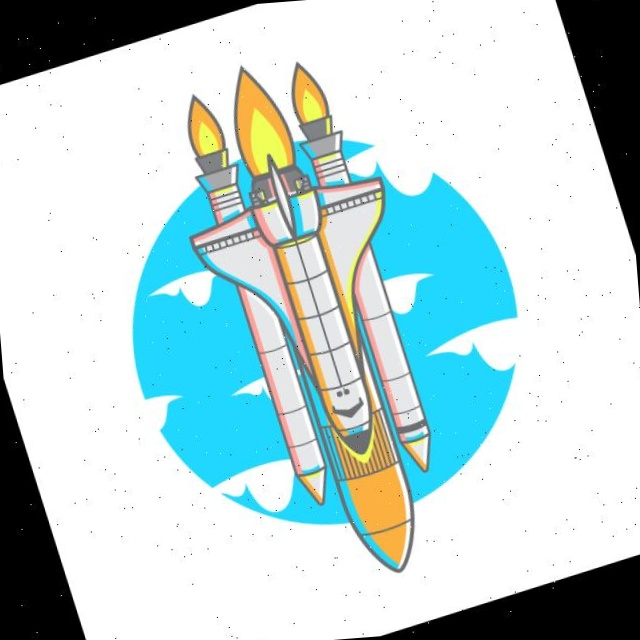rocket: (171, 143, 467, 509)
